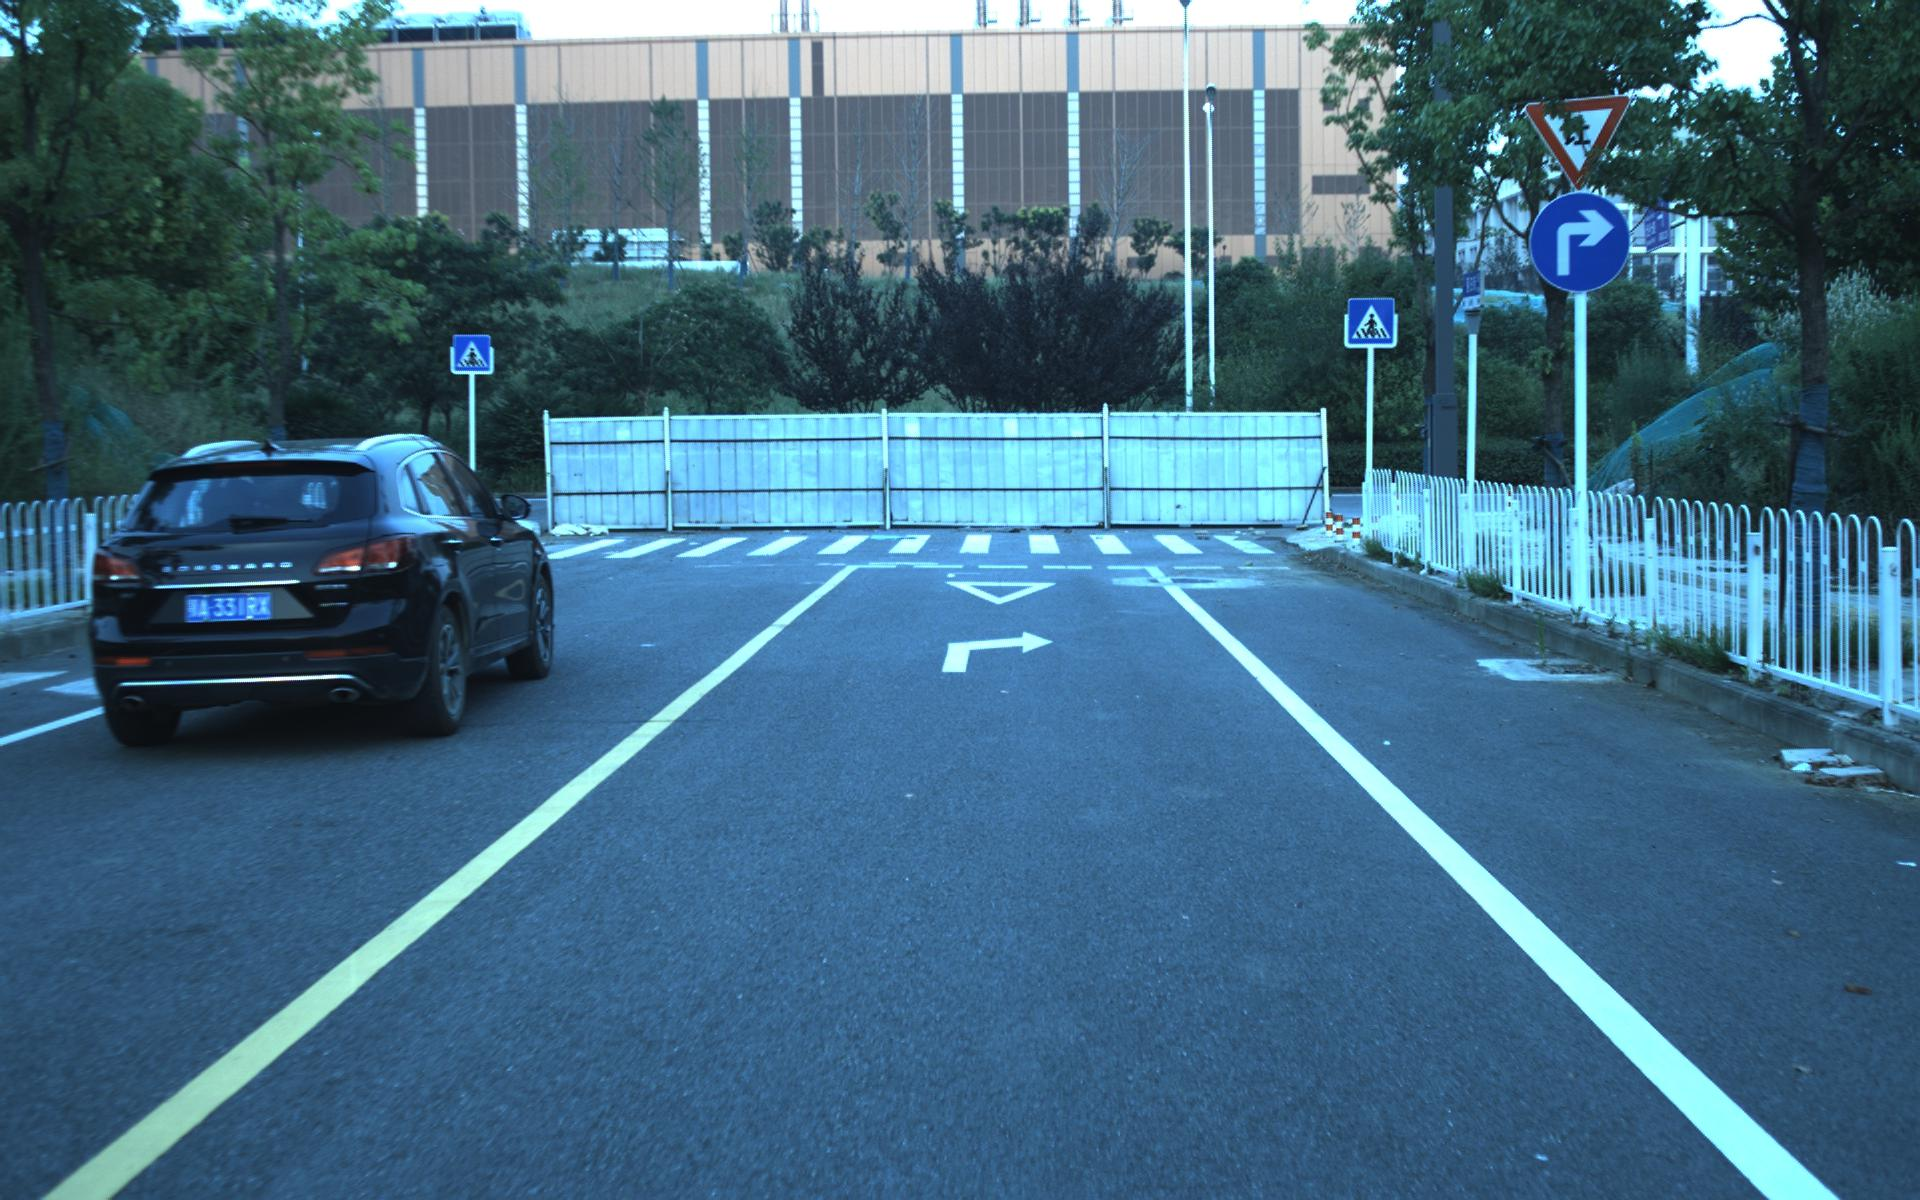Car: (70, 419, 568, 751)
